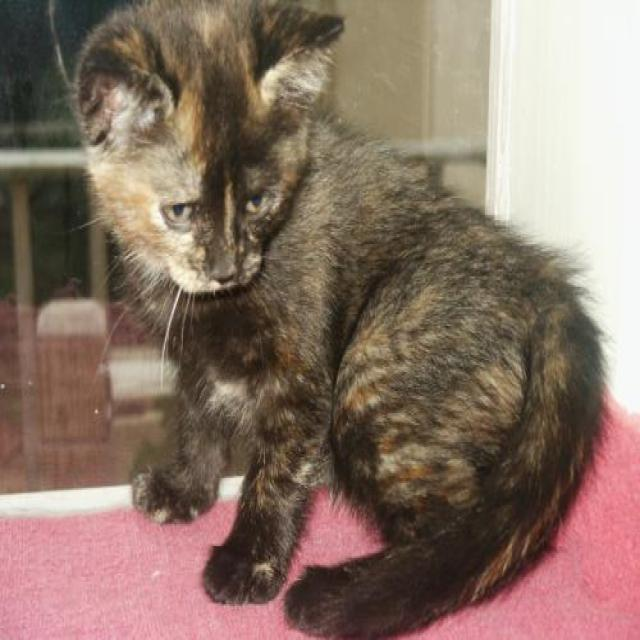Cats: (55, 0, 609, 638)
